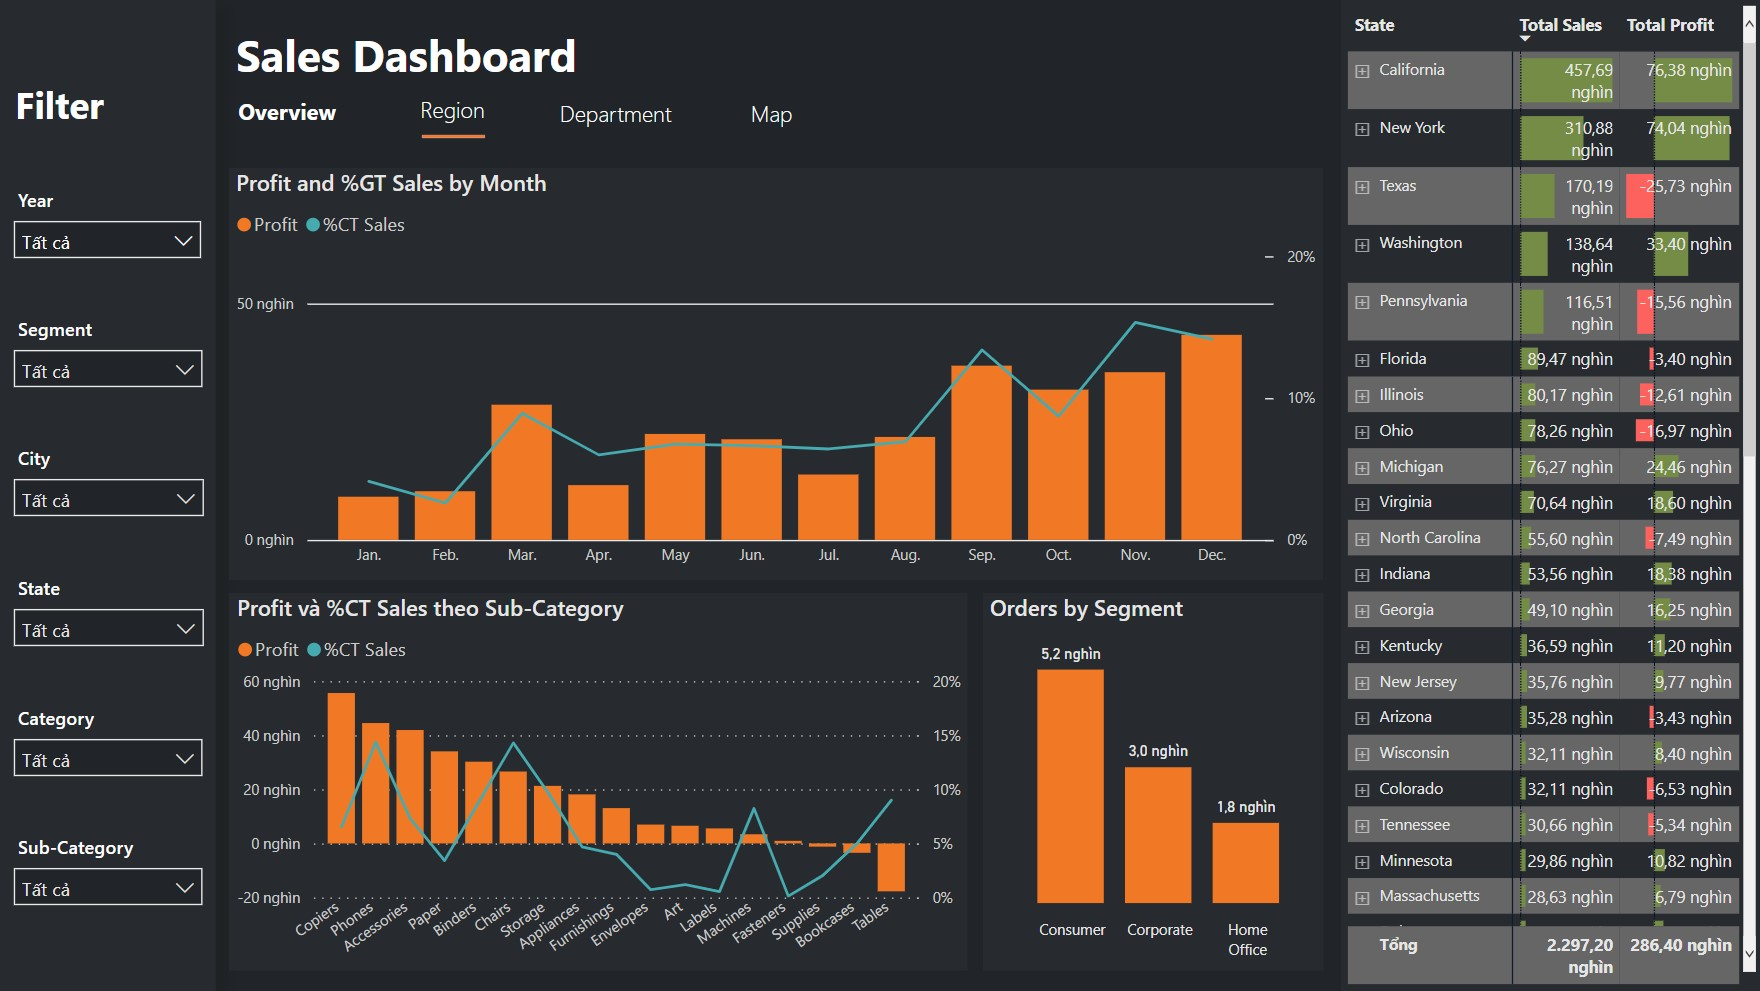

Layout of this report page (visuals, bound fields, positions):
{"tool":"powerbi","page":{"name":"Regions","canvas":[1280,720],"ordinal":1},"visuals":[{"type":"textbox","box":[167.5,13,270.8,52.6],"z":0},{"type":"shape","box":[974.8,0,305.2,743.8],"z":1000},{"type":"textbox","box":[156,65.7,107.7,30.9],"z":2000},{"type":"shape","box":[0,0,158.1,720.4],"z":3000},{"type":"textbox","box":[285.9,65,87.9,33.3],"z":4000},{"type":"shape","box":[167.9,430.9,536.2,274.1],"z":5000},{"type":"shape","box":[715.2,430.9,247.1,274.1],"z":6000},{"type":"shape","box":[167.9,122.8,794.5,298.6],"z":7000},{"type":"textbox","box":[394.6,67.3,106.9,32.5],"z":8000},{"type":"slicer","title":"Slicer","fields":{"Values":["Orders.Order_year"]},"box":[1.6,132.3,156,56.2],"z":9000},{"type":"textbox","box":[0,53.1,156,57],"z":10000},{"type":"actionButton","box":[156,67.3,107.7,29.3],"z":11000},{"type":"slicer","fields":{"Values":["Orders.City"]},"box":[1.6,319.2,157.6,57],"z":12000},{"type":"slicer","fields":{"Values":["Orders.Category"]},"box":[1.6,507.7,156.8,57],"z":13000},{"type":"actionButton","box":[285.9,65,87.9,34.9],"z":14000},{"type":"slicer","fields":{"Values":["Orders.Sub-Category"]},"box":[1.6,602,156.8,57.8],"z":15000},{"type":"slicer","fields":{"Values":["Orders.Segment"]},"box":[1.6,225.7,156.8,56.2],"z":16000},{"type":"actionButton","box":[394.5,65.7,106.9,34.1],"z":17000},{"type":"slicer","fields":{"Values":["Orders.State"]},"box":[1.6,413.5,157.6,57],"z":18000},{"type":"shape","box":[306.8,83,46.9,33.5],"z":19000},{"type":"pivotTable","fields":{"Rows":["Orders.State","Orders.Category","Orders.Sub-Category"],"Values":["Sum(Orders.Sales)","Sum(Orders.Profit)"]},"box":[974.5,0,305.5,720.1],"z":20000},{"type":"lineStackedColumnComboChart","title":"Profit and %GT Sales by Month","fields":{"Y":["Sum(Orders.Profit)"],"Category":["Orders.Month_name"],"Y2":["Sum(Orders.Sales)"]},"box":[167.9,122.9,794.5,298.6],"z":21000},{"type":"lineClusteredColumnComboChart","fields":{"Category":["Orders.Sub-Category"],"Y":["Sum(Orders.Profit)"],"Y2":["Divide(Avg(Orders.Sales), ScopedEval(Avg(Orders.Sales), []))"]},"box":[168.2,431.3,536.5,274.3],"z":22000},{"type":"clusteredColumnChart","title":"Orders by Segment","fields":{"Category":["Orders.Segment"],"Y":["CountNonNull(Orders.Row ID)"]},"box":[715,431.3,247.5,274.3],"z":23000},{"type":"textbox","box":[508,67.2,106.9,32.5],"z":24000},{"type":"actionButton","box":[507.7,66.3,107.3,35],"z":25000}]}

Visuals, with their boxes in screenshot pixels (x1, y1, x2, y2), scaled from the page's 1280x720 canvas onto the 1760x991 screenshot:
textbox: BBox(230, 18, 603, 90)
shape: BBox(1340, 0, 1759, 990)
textbox: BBox(214, 90, 363, 133)
shape: BBox(0, 0, 217, 990)
textbox: BBox(393, 89, 514, 135)
shape: BBox(231, 593, 968, 970)
shape: BBox(983, 593, 1323, 970)
shape: BBox(231, 169, 1323, 580)
textbox: BBox(543, 93, 690, 137)
"Slicer" slicer: BBox(2, 182, 217, 259)
textbox: BBox(0, 73, 214, 152)
actionButton: BBox(214, 93, 363, 133)
slicer - Orders.City: BBox(2, 439, 219, 518)
slicer - Orders.Category: BBox(2, 699, 218, 777)
actionButton: BBox(393, 89, 514, 138)
slicer - Orders.Sub-Category: BBox(2, 829, 218, 908)
slicer - Orders.Segment: BBox(2, 311, 218, 388)
actionButton: BBox(542, 90, 689, 137)
slicer - Orders.State: BBox(2, 569, 219, 648)
shape: BBox(422, 114, 486, 160)
pivotTable - Orders.State x Orders.Category: BBox(1340, 0, 1759, 990)
"Profit and %GT Sales by Month" lineStackedColumnComboChart: BBox(231, 169, 1323, 580)
lineClusteredColumnComboChart - Orders.Sub-Category x Sum(Orders.Profit): BBox(231, 594, 969, 971)
"Orders by Segment" clusteredColumnChart: BBox(983, 594, 1323, 971)
textbox: BBox(698, 92, 845, 137)
actionButton: BBox(698, 91, 846, 139)
